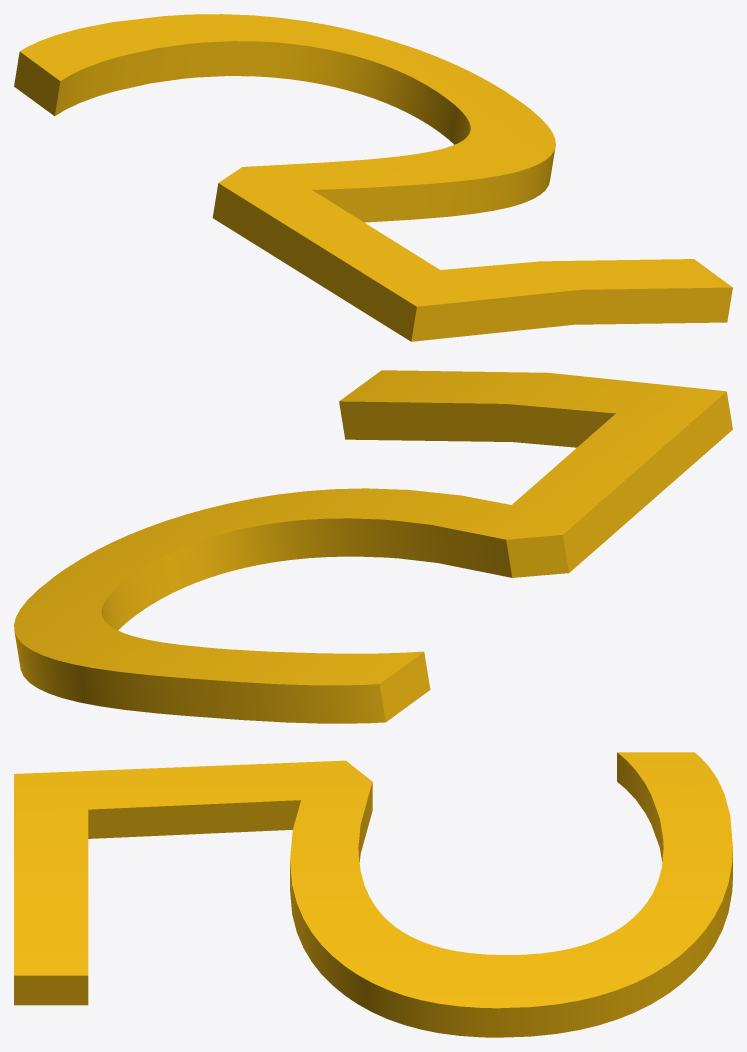
The model's file is Number_5.gltf.
3 views of the same model, one above another, from view 1: azimuth 30°, elevation 25°; view 2: azimuth 150°, elevation 25°; view 3: azimuth 270°, elevation 25° (orthographic). The views are drawn at different scales.
Parts seen in each view (by area): view 1: Sub_6_Cell_1_3_Number_5; view 2: Sub_6_Cell_1_3_Number_5; view 3: Sub_6_Cell_1_3_Number_5.
Boxes of the visible parts, x1,y1,x2,y2 form: Sub_6_Cell_1_3_Number_5: [14, 14, 732, 341]; Sub_6_Cell_1_3_Number_5: [14, 370, 732, 723]; Sub_6_Cell_1_3_Number_5: [14, 752, 732, 1037].
Bounding box in the file's own units: 0.0158 × 0.00401 × 0.0255.
